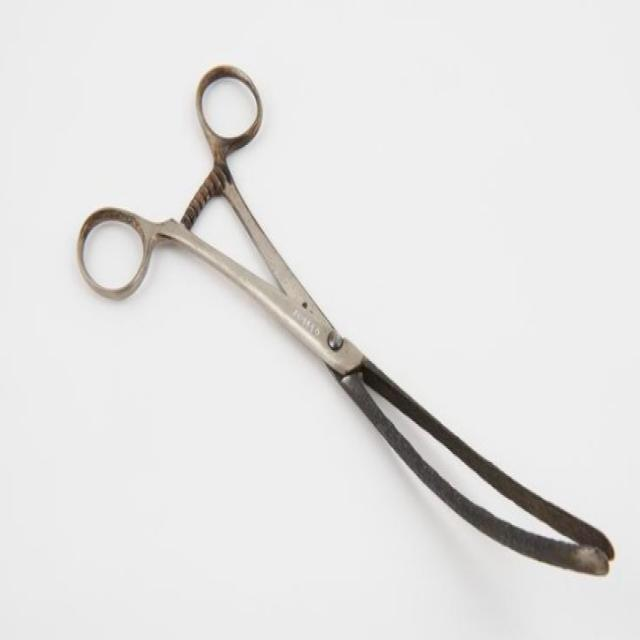Doyel Instestinal Forceps: (77, 61, 619, 578)
